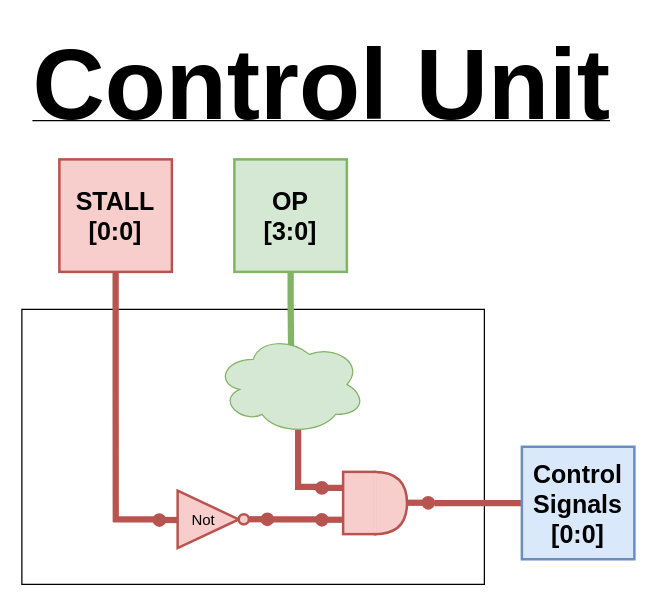
Some shapes in this 658 by 606 pixel diagram are drawn without their labels. Here are the shapes that lost their labels. From the top down, the centre of each, then its label:
At (x=290, y=383): "Combinational Logic".
At (x=358, y=502): "And".
